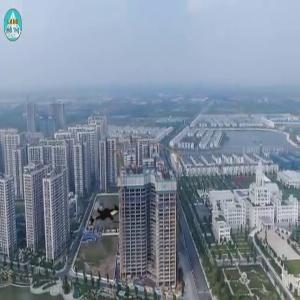drone: (80, 193, 133, 246)
